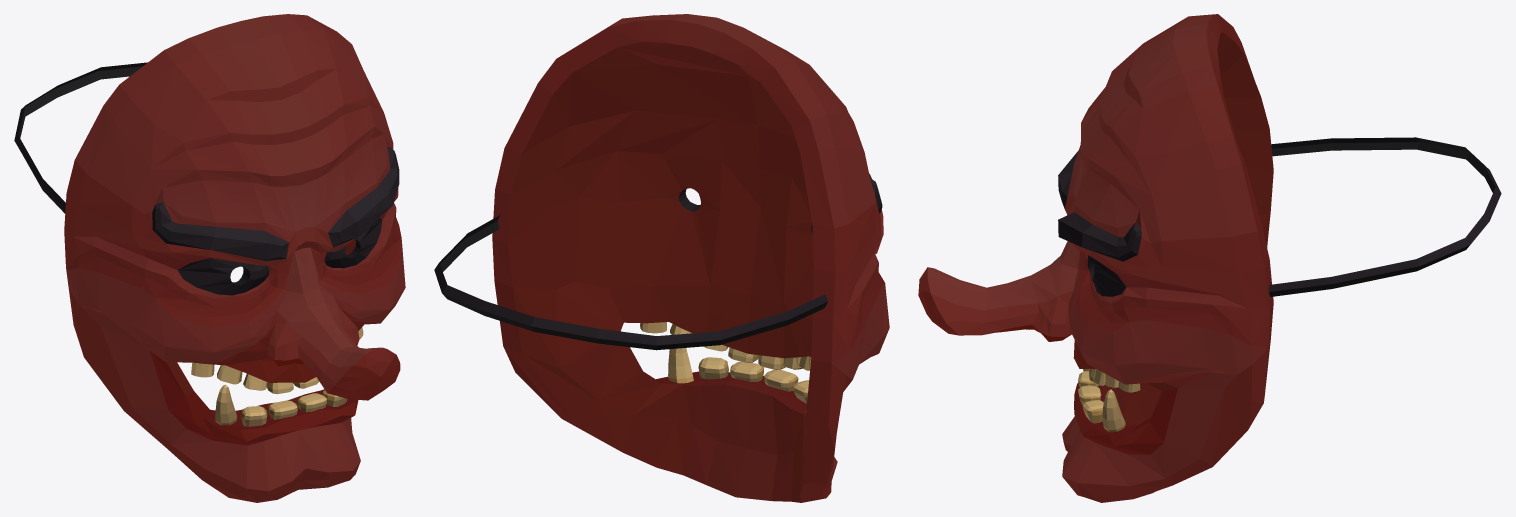
The model's file is tenguMask.glb.
3 views of the same model, side by side, from view 1: azimuth 30°, elevation 25°; view 2: azimuth 150°, elevation 25°; view 3: azimuth 270°, elevation 25° (orthographic). The views are drawn at different scales.
Visible parts, largest first — view 1: tenguMask; view 2: tenguMask; view 3: tenguMask.
Part boxes in pixels (bbox=[...]): tenguMask: bbox=[14, 14, 405, 502]; tenguMask: bbox=[434, 14, 889, 502]; tenguMask: bbox=[918, 14, 1501, 502].
Size of the model in its own units: 0.2634 by 0.3551 by 0.4231.
